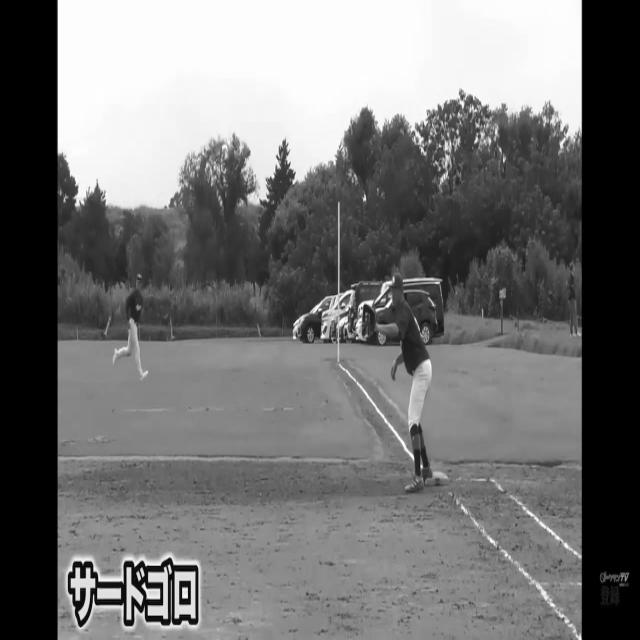base: (426, 471, 450, 487)
baseball_glove: (359, 301, 381, 345)
shoe: (404, 475, 424, 498), (138, 365, 149, 390), (112, 345, 120, 367), (420, 463, 434, 475)
